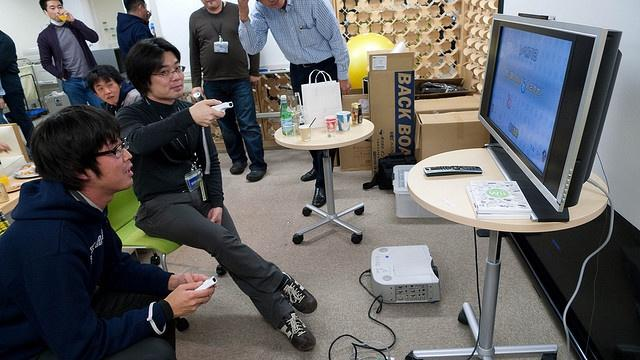AIO PC-Monitor-TV: (477, 11, 622, 223)
